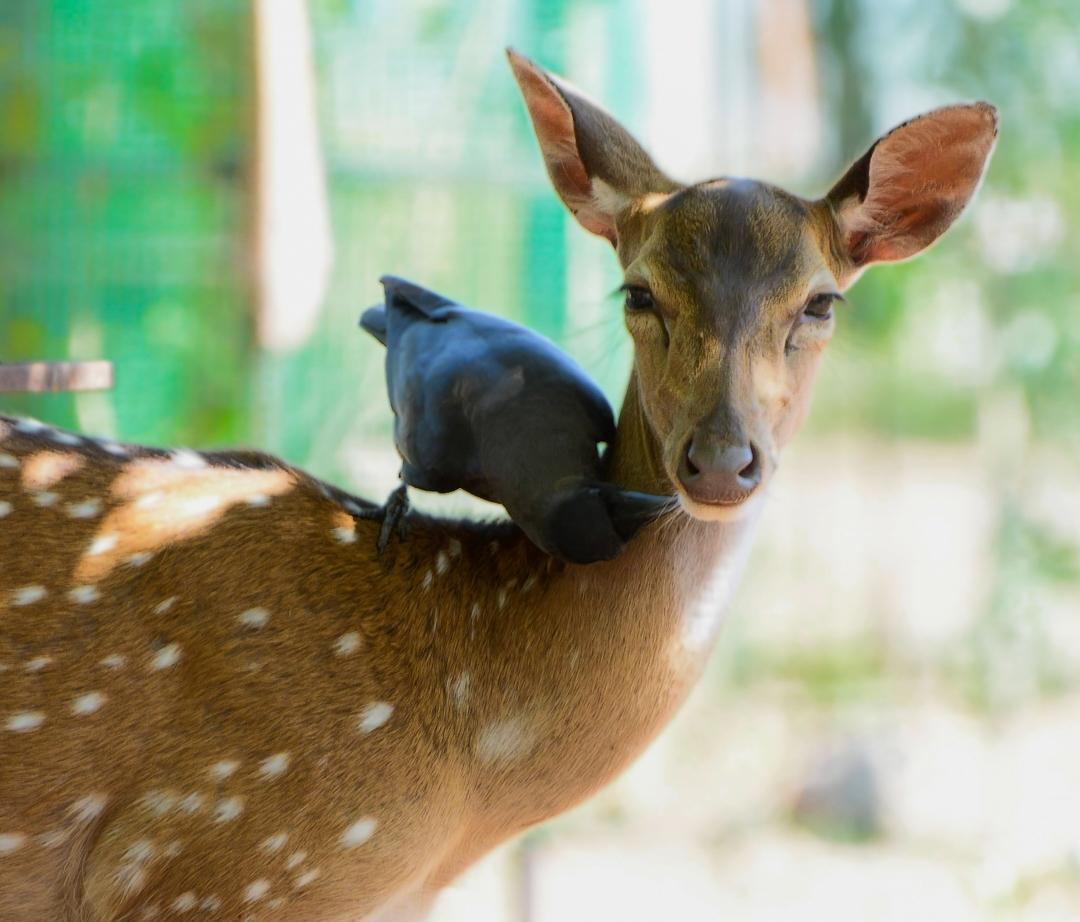Deer: (0, 51, 997, 918)
